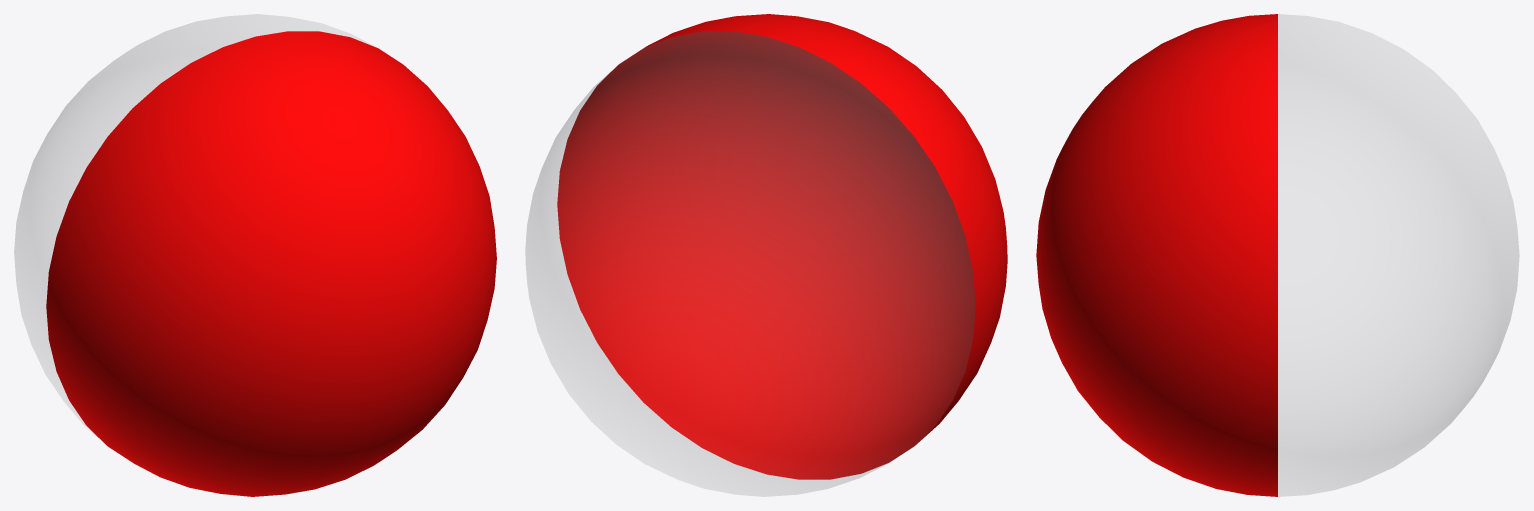
Rendered from ball-red.glb.
3 renders of one model, left to right at view 1: azimuth 30°, elevation 25°; view 2: azimuth 150°, elevation 25°; view 3: azimuth 270°, elevation 25°, orthographic.
Visible parts, largest first — view 1: ball.001; view 2: ball.001; view 3: ball.001.
Boxes of the visible parts, x1=… form: ball.001: x1=14, y1=14, x2=496, y2=496; ball.001: x1=525, y1=14, x2=1007, y2=496; ball.001: x1=1036, y1=14, x2=1519, y2=496.
Bounding box in the file's own units: 0.3 × 0.3 × 0.3.
